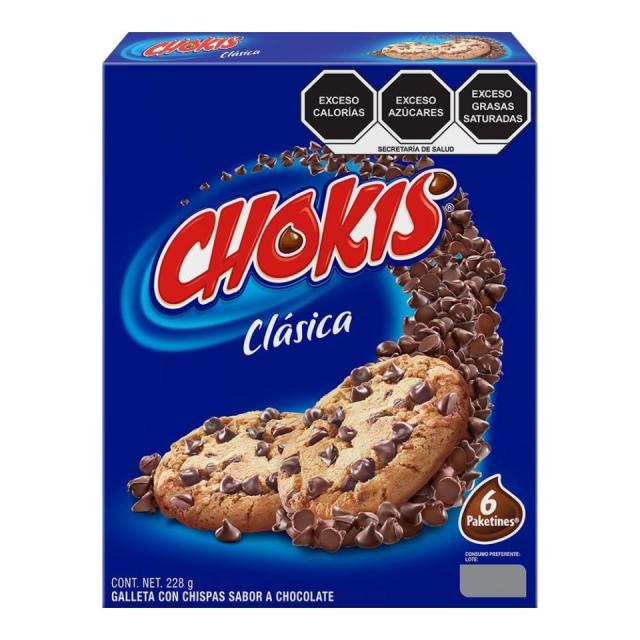Caja: (95, 17, 543, 618)
